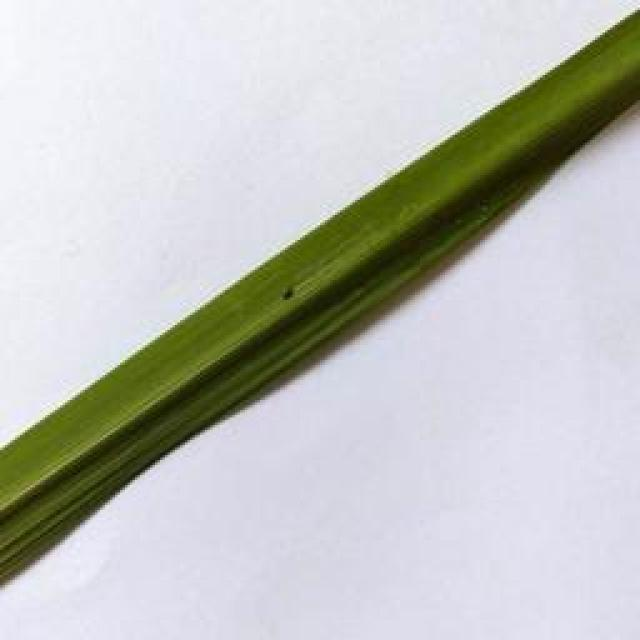Healthy-Plant: (0, 9, 640, 587)
